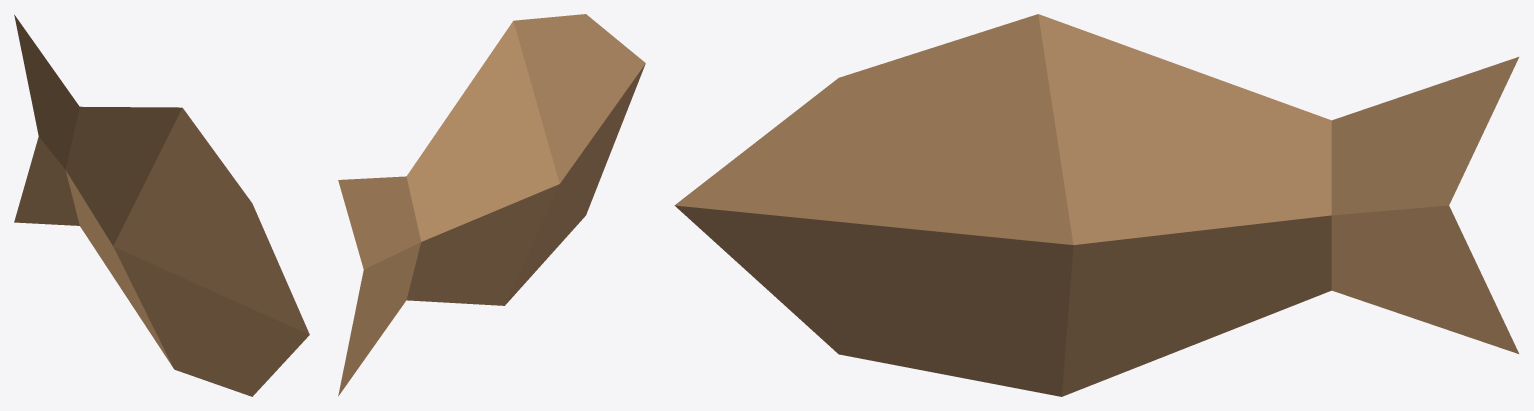
File: fish.fbx
The picture shows the model from 3 angles, left to right: view 1: azimuth 30°, elevation 25°; view 2: azimuth 150°, elevation 25°; view 3: azimuth 270°, elevation 25°; orthographic projection. The views are drawn at different scales.
Visible parts, largest first — view 1: Cube; view 2: Cube; view 3: Cube.
Boxes of the visible parts, box(x1,y1,x2,y2) form: Cube: box(14, 14, 309, 396); Cube: box(338, 14, 645, 396); Cube: box(674, 14, 1518, 396).
Size of the model in its own units: 80 by 180 by 360.
